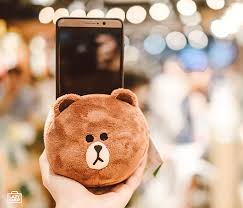line_brown: (37, 84, 160, 188)
